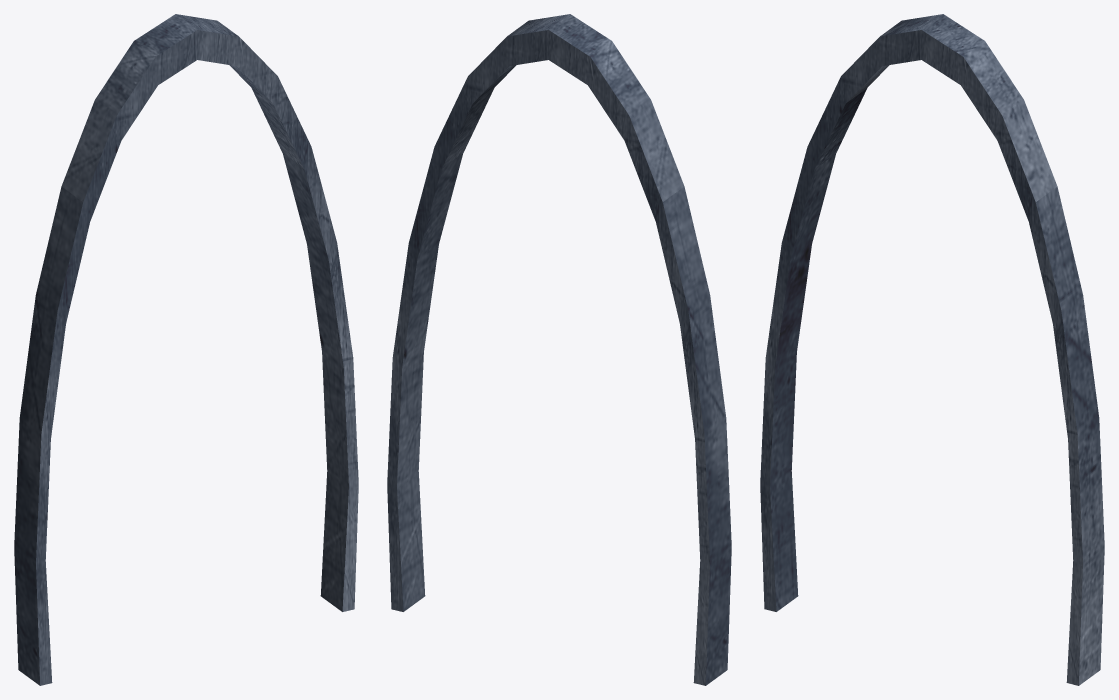
Rendered from Gate.FBX.
3 views of the same model, side by side, from view 1: azimuth 30°, elevation 25°; view 2: azimuth 150°, elevation 25°; view 3: azimuth 330°, elevation 25° (orthographic).
Parts seen in each view (by area): view 1: Gate; view 2: Gate; view 3: Gate.
Boxes of the visible parts, x1,y1,x2,y2 form: Gate: [14, 14, 358, 685]; Gate: [387, 14, 731, 685]; Gate: [760, 14, 1104, 685].
Size of the model in its own units: 2.36 by 4.31 by 0.2749.
1 material, 1 textured.
